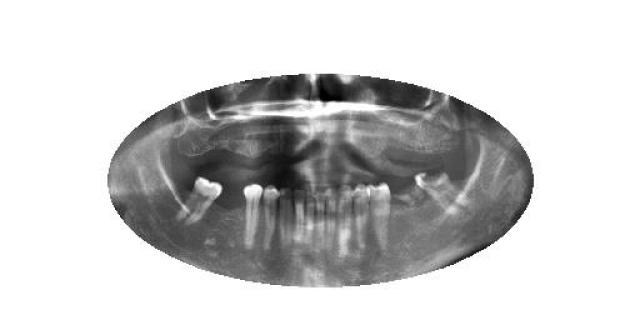Cavity: (415, 168, 470, 214)
